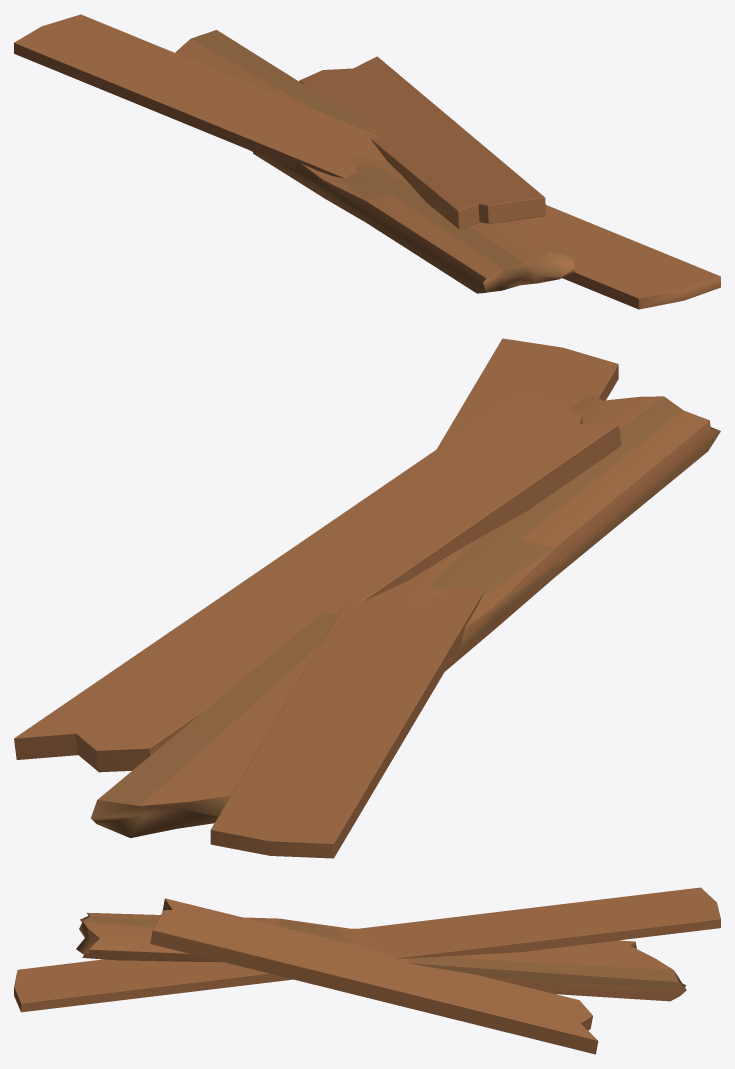
The model's file is kahoy.fbx.
The picture shows the model from 3 angles, top to bottom: view 1: azimuth 30°, elevation 25°; view 2: azimuth 150°, elevation 25°; view 3: azimuth 270°, elevation 25°; orthographic projection. The views are drawn at different scales.
Visible parts, largest first — view 1: plank_05, plank_04, plank_01; view 2: plank_01, plank_05, plank_04; view 3: plank_05, plank_01, plank_04.
Part boxes in pixels (x1,y1,x2,y2): plank_05: (14, 14, 720, 309); plank_04: (175, 30, 574, 293); plank_01: (299, 56, 546, 229); plank_01: (14, 391, 621, 772); plank_05: (210, 338, 618, 858); plank_04: (91, 394, 720, 837); plank_05: (14, 887, 720, 1012); plank_01: (150, 898, 598, 1054); plank_04: (76, 912, 686, 1001).
Size of the model in its own units: 72.24 by 23.34 by 180.
